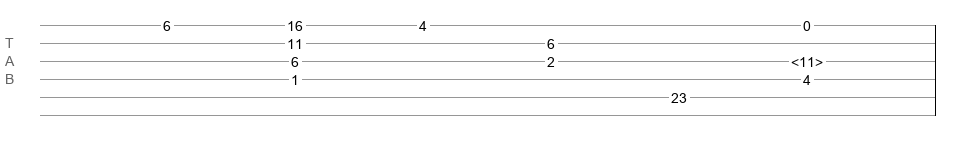0: (803, 18, 811, 28)
1: (291, 72, 299, 82)
11: (287, 36, 303, 46)
16: (287, 18, 303, 28)
2: (547, 54, 555, 64)
23: (671, 90, 687, 100)
4: (419, 18, 427, 28), (803, 72, 811, 82)
6: (163, 18, 171, 28), (291, 54, 299, 64), (547, 36, 555, 46)
harmonic: (791, 54, 823, 64)
